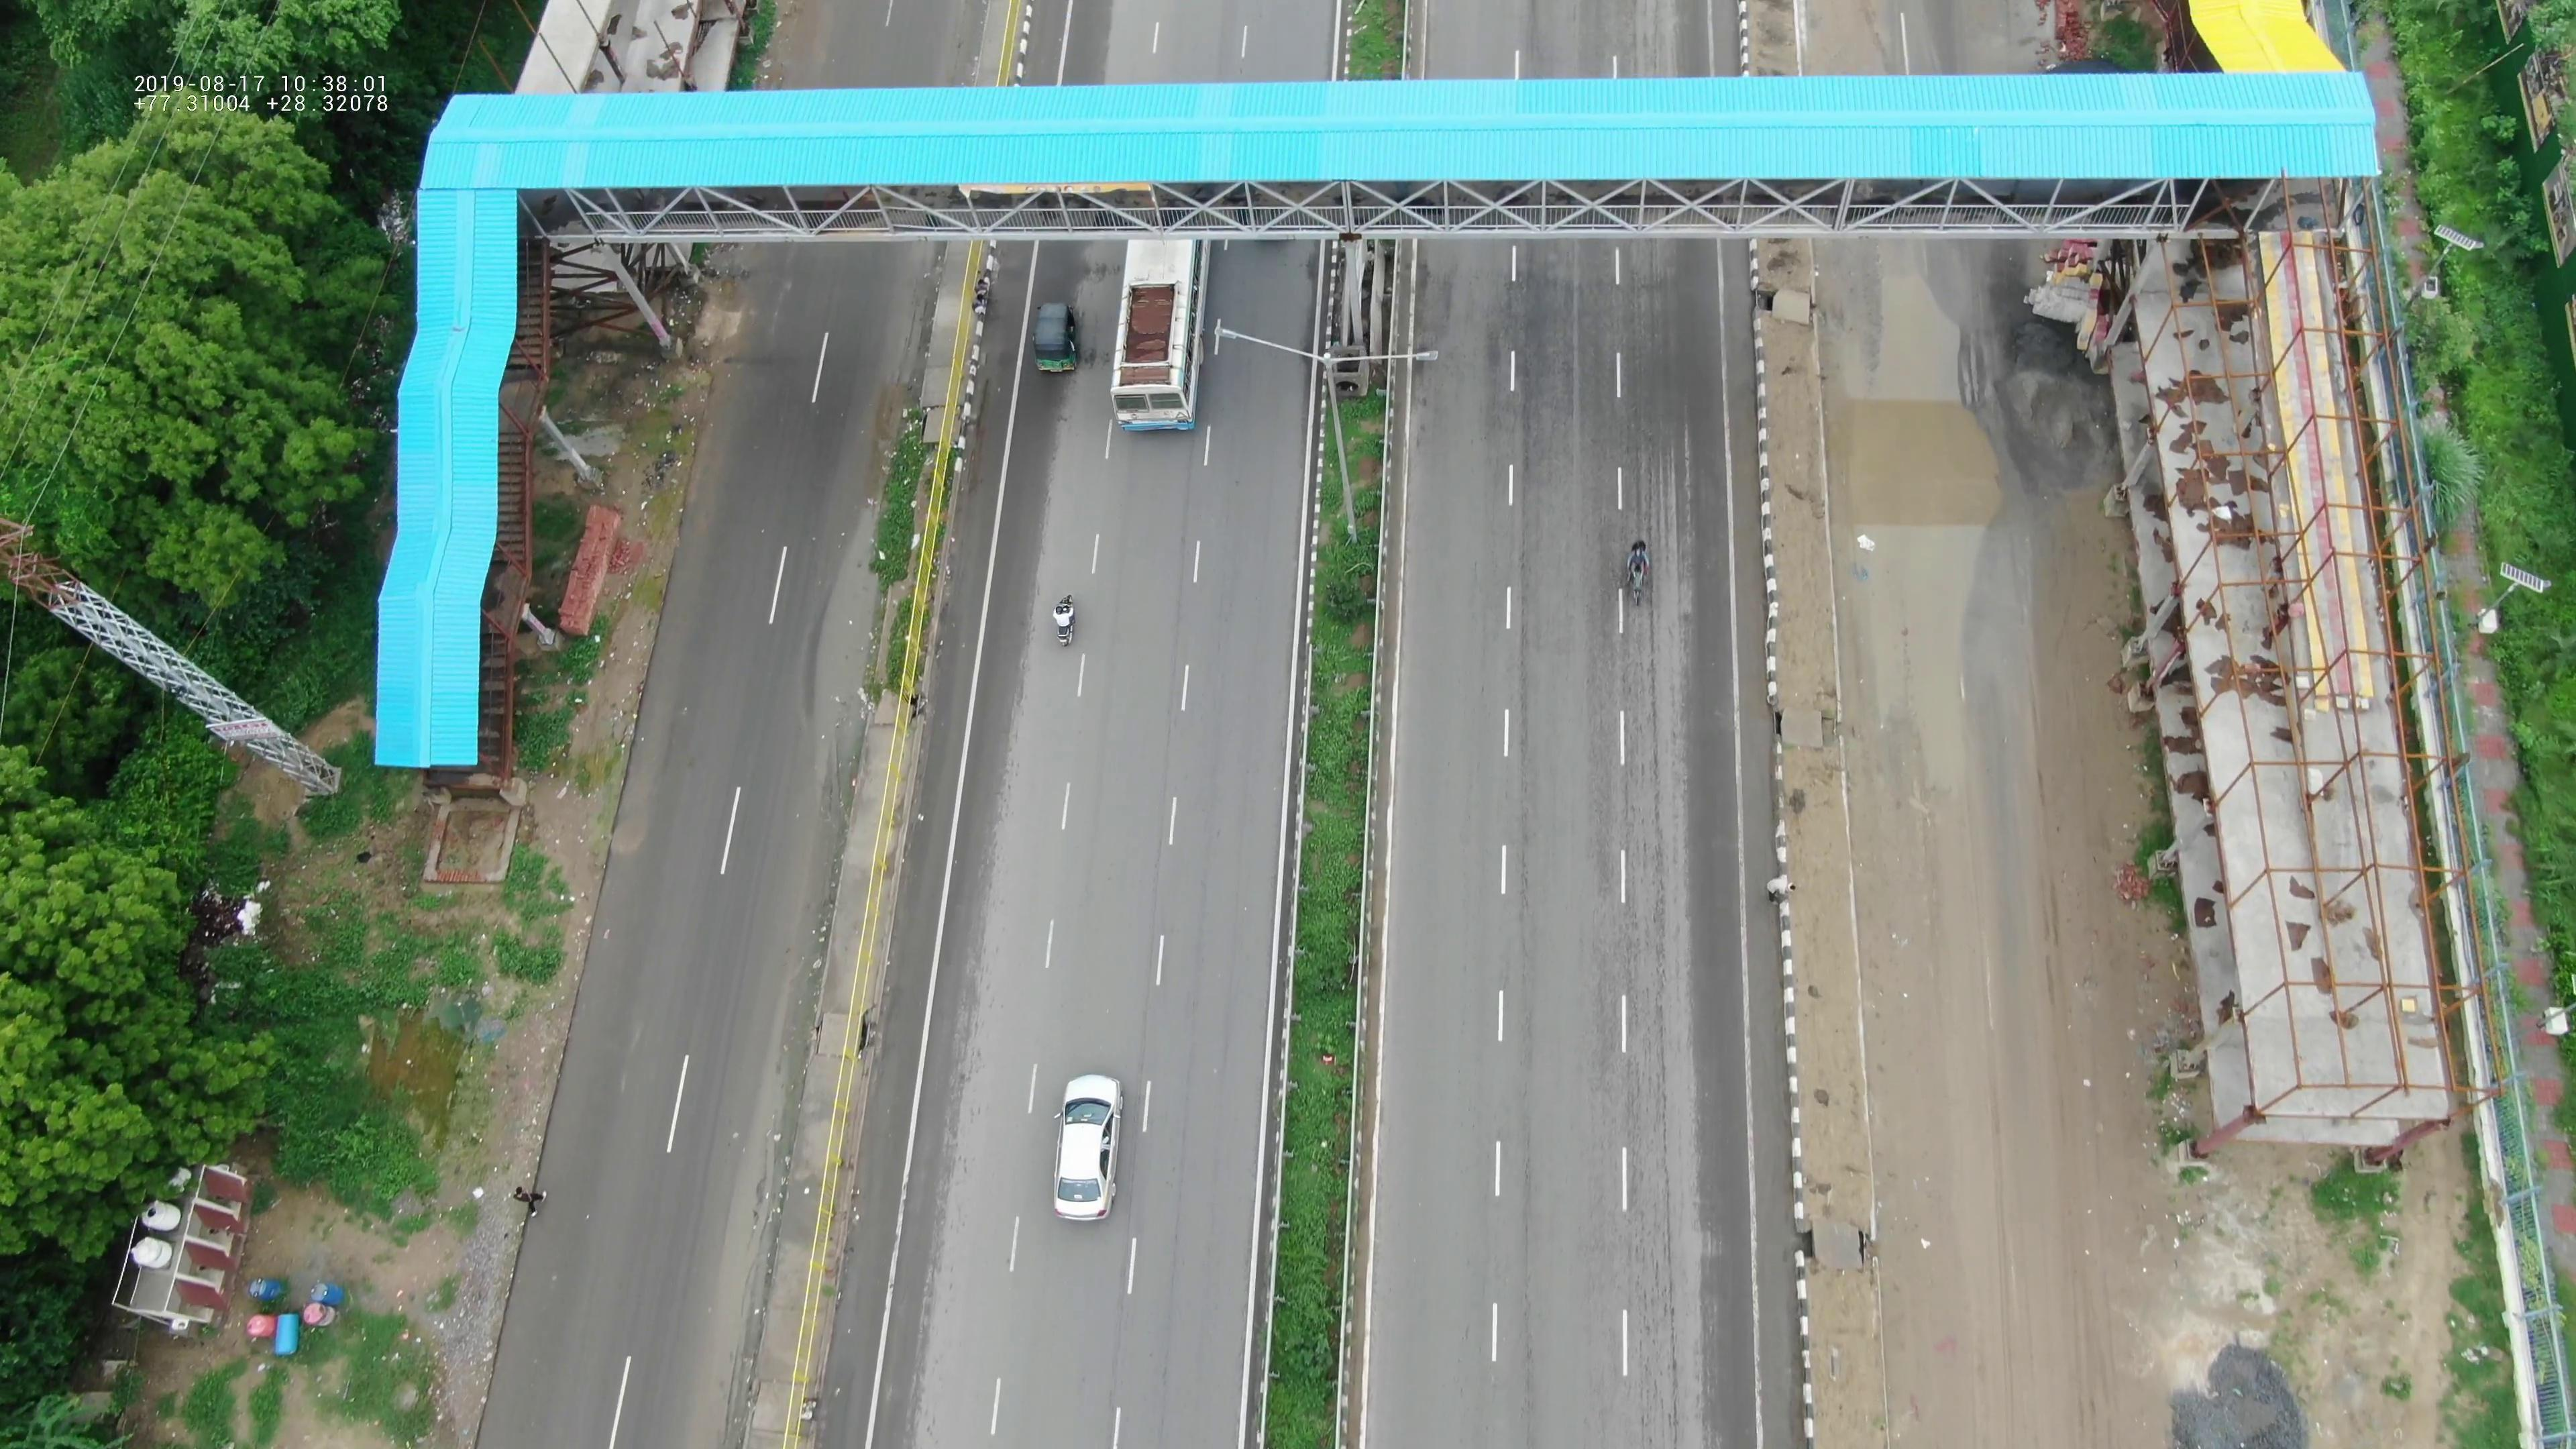Muddy_road: (1888, 1115, 1982, 1408), (1868, 833, 1969, 1077)
Ravelling: (1587, 660, 1697, 1023), (1605, 1054, 1684, 1410), (1476, 255, 1569, 446)
Waterlogging: (1836, 258, 1996, 824), (786, 501, 890, 766)
